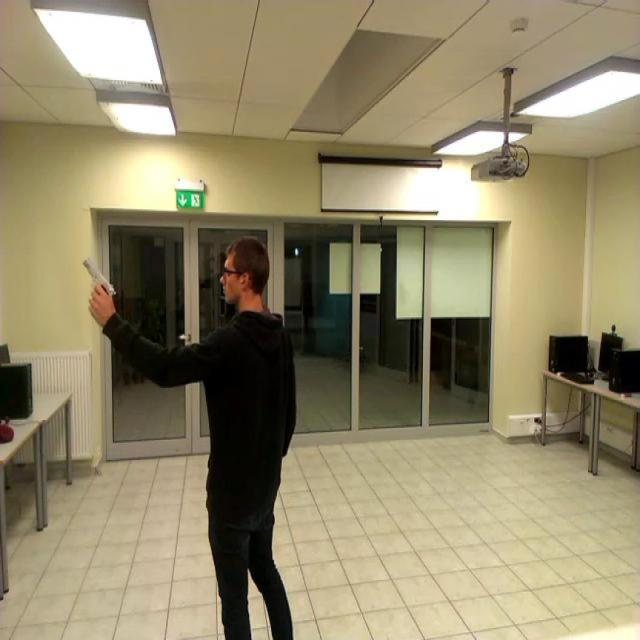pistol: (83, 256, 117, 304)
